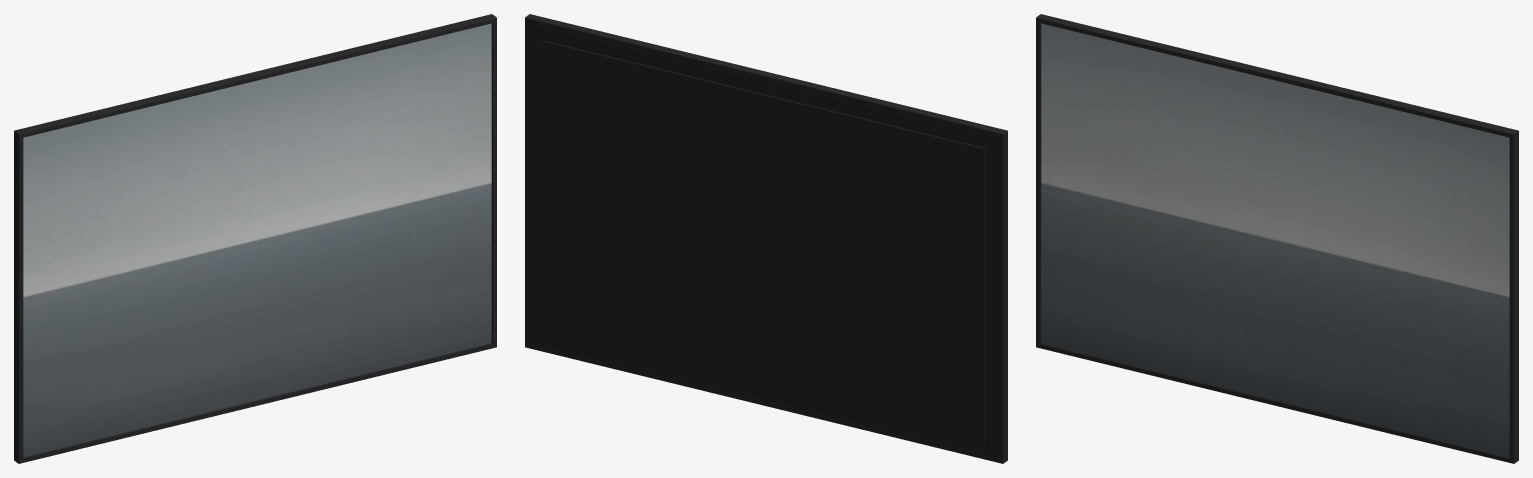
File: living_art_large.gltf
3 renders of one model, left to right at view 1: azimuth 30°, elevation 25°; view 2: azimuth 150°, elevation 25°; view 3: azimuth 330°, elevation 25°, orthographic.
Visible parts, largest first — view 1: LivingArtLarge_Art, LivingArtLarge_Frame; view 2: LivingArtLarge_Spacer, LivingArtLarge_Backing, LivingArtLarge_Frame; view 3: LivingArtLarge_Art, LivingArtLarge_Frame.
Part boxes in pixels (x1,y1,x2,y2): LivingArtLarge_Art: (23,23,491,457); LivingArtLarge_Frame: (14,14,496,463); LivingArtLarge_Spacer: (541,40,985,442); LivingArtLarge_Backing: (529,23,998,457); LivingArtLarge_Frame: (525,14,1007,463); LivingArtLarge_Art: (1041,23,1509,457); LivingArtLarge_Frame: (1036,14,1518,463).
Size of the model in its own units: 2.2 by 1.45 by 0.05.
Materials: 3 (1 with a texture image).
